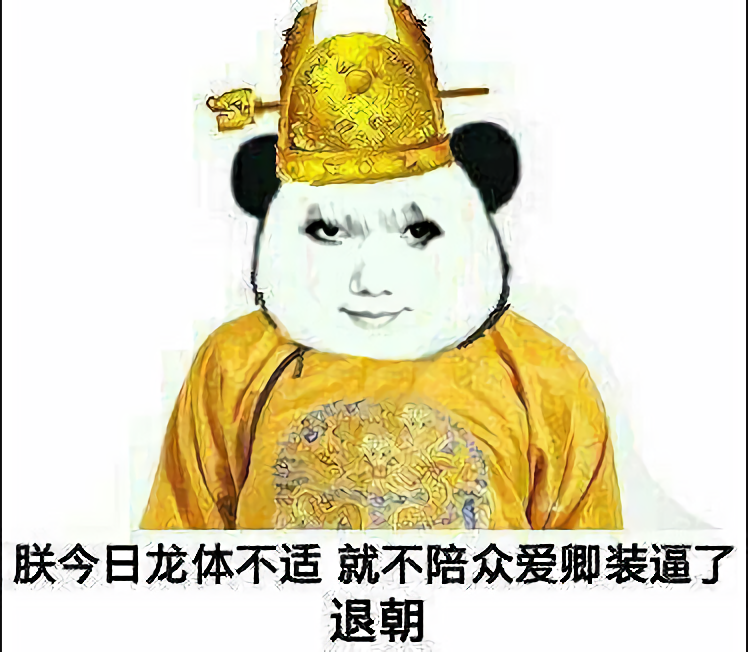dragon: (301, 204, 448, 331)
